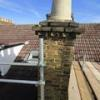chimneys: (44, 1, 74, 100)
